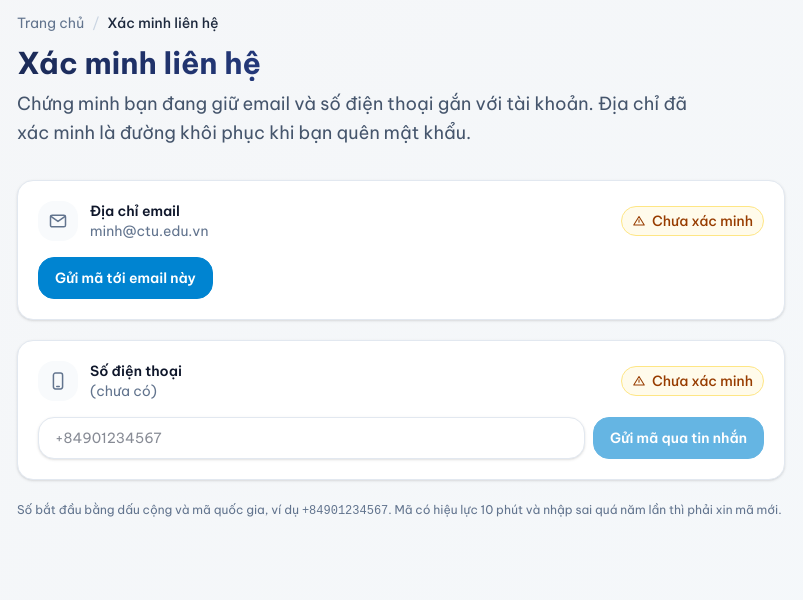
Test case: Một lượt gửi hỏng phải nhìn thấy được › hiện lỗi ngay cả khi không có luồng nào mở ra
Click the button "Gửi mã tới email này". click: x=125, y=278
box: [38,256,213,298]
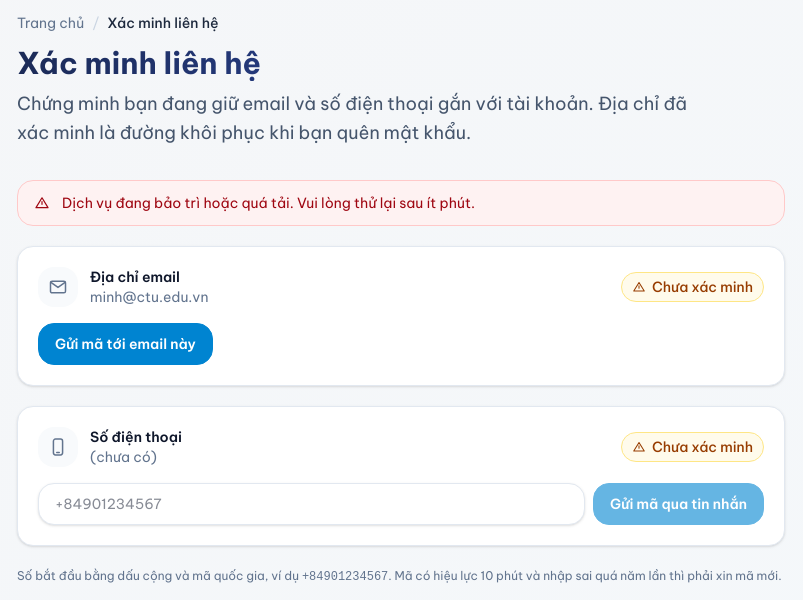
Expected: the message does not show "smtp.gmail.com", [17,180,785,226]
Result: the message "Dịch vụ đang bảo trì hoặc quá tải. Vui lòng thử lại sau ít phút." is shown at [17,180,785,226]
Result: the message shows "bảo trì hoặc quá tải" at [62,194,475,212]
